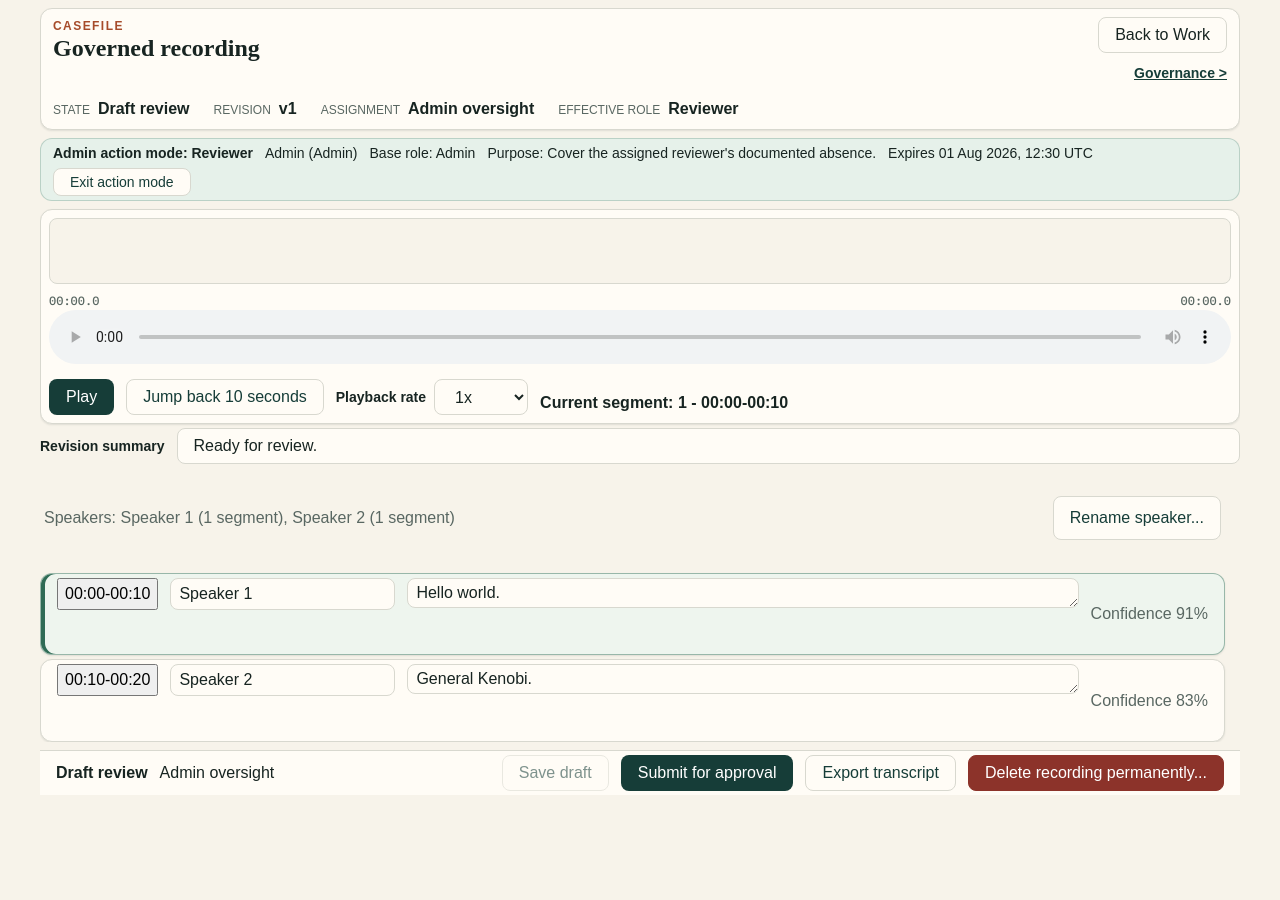
Test case: CasefileWorkspace › offers approver action-mode entry in Governance while reviewer action mode is active
Click the button "Governance >" at (1180, 73), box [1134,57,1227,89]
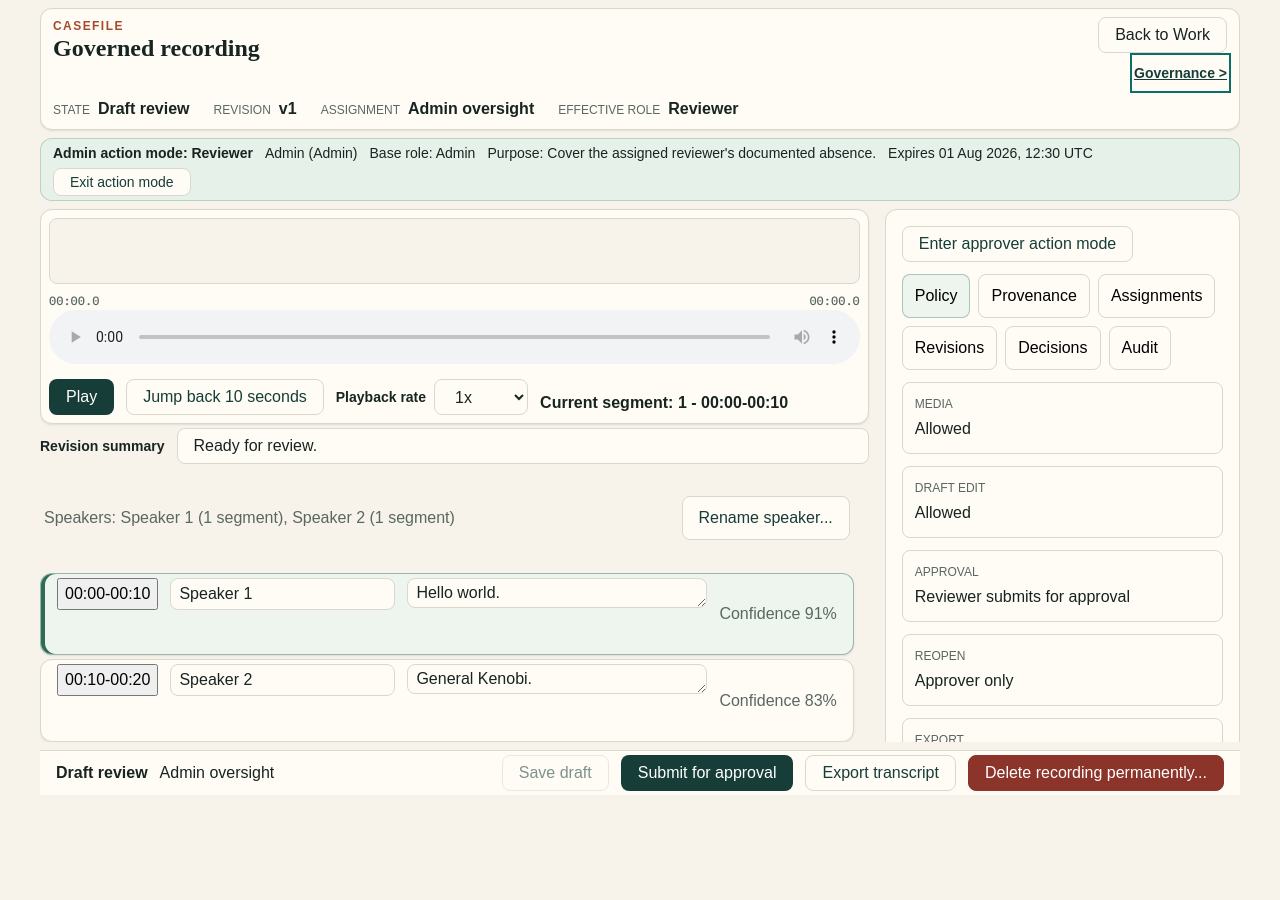
Check: the button "Enter approver action mode" is shown, box [902,226,1133,262]
